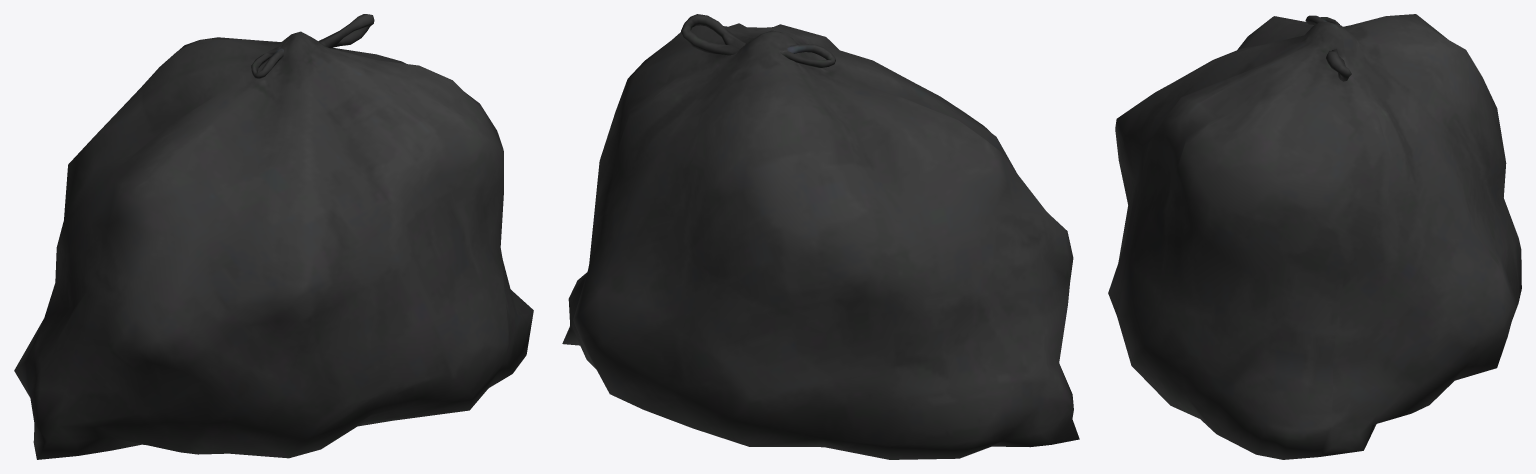
The model's file is Bags.glb.
3 views of the same model, side by side, from view 1: azimuth 30°, elevation 25°; view 2: azimuth 150°, elevation 25°; view 3: azimuth 270°, elevation 25° (orthographic). The views are drawn at different scales.
Visible parts, largest first — view 1: TrashBag_3_LargeGround_LOD0; view 2: TrashBag_3_LargeGround_LOD0; view 3: TrashBag_3_LargeGround_LOD0.
Part boxes in pixels (left/top/right/bottom): TrashBag_3_LargeGround_LOD0: left=14, top=14, right=533, bottom=459; TrashBag_3_LargeGround_LOD0: left=562, top=14, right=1079, bottom=459; TrashBag_3_LargeGround_LOD0: left=1108, top=14, right=1521, bottom=459.
Bounding box in the file's own units: 0.594 × 0.404 × 0.4346.
1 material, 1 textured.
